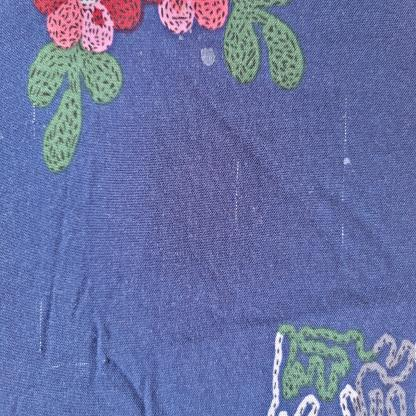spot: (194, 40, 219, 69), (177, 32, 185, 44)
